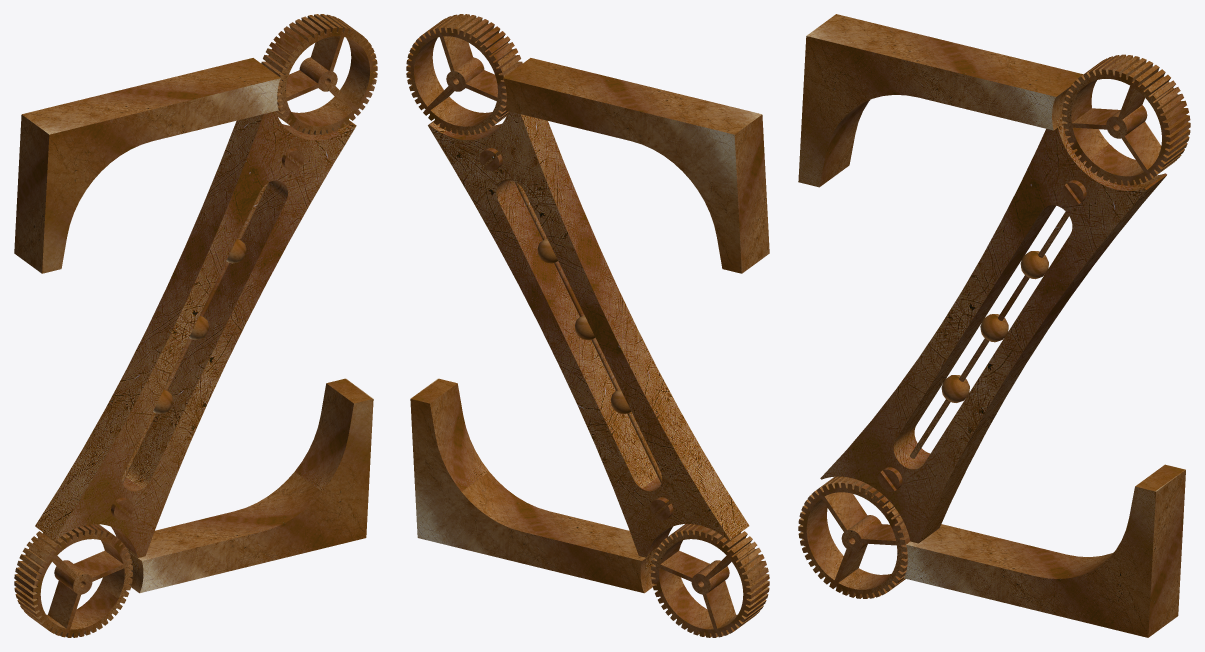
3 renders of one model, left to right at view 1: azimuth 30°, elevation 25°; view 2: azimuth 150°, elevation 25°; view 3: azimuth 330°, elevation 25°, orthographic. The views are drawn at different scales.
Parts seen in each view (by area): view 1: Z, Cogwheel_313, Cogwheel_314, Tube_512; view 2: Z, Cogwheel_313, Cogwheel_314, Tube_512; view 3: Z, Cogwheel_314, Cogwheel_313, Tube_512, Sphere_077, Sphere_078, Sphere_084.
Part boxes in pixels (box(x1,y1,x2,y2)): Z: box(14, 58, 373, 593); Cogwheel_313: box(14, 524, 132, 637); Cogwheel_314: box(261, 14, 377, 135); Tube_512: box(122, 182, 268, 482); Z: box(410, 58, 769, 593); Cogwheel_313: box(651, 524, 769, 637); Cogwheel_314: box(406, 14, 522, 135); Tube_512: box(514, 181, 661, 483); Z: box(798, 14, 1185, 637); Cogwheel_314: box(1062, 54, 1190, 185); Cogwheel_313: box(798, 476, 910, 598); Tube_512: box(910, 211, 1068, 458); Sphere_077: box(980, 314, 1008, 342); Sphere_078: box(941, 375, 969, 402); Sphere_084: box(1020, 251, 1048, 279).
Size of the model in its own units: 71.56 by 109 by 10.
1 material, 1 textured.
